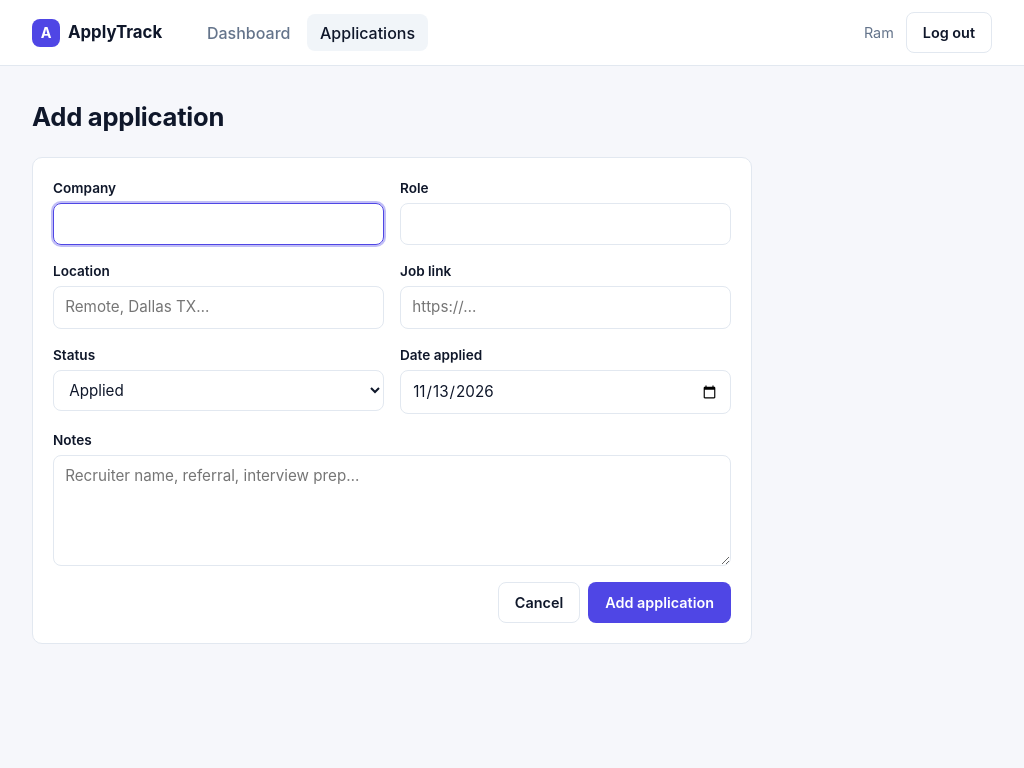
Test: application form › creates an application and returns to the list
The width and height of the screenshot is (1024, 768).
Type "Stripe" into the field labelled "Company".
click(218, 224); type("Stripe")  # box [53,203,384,245]
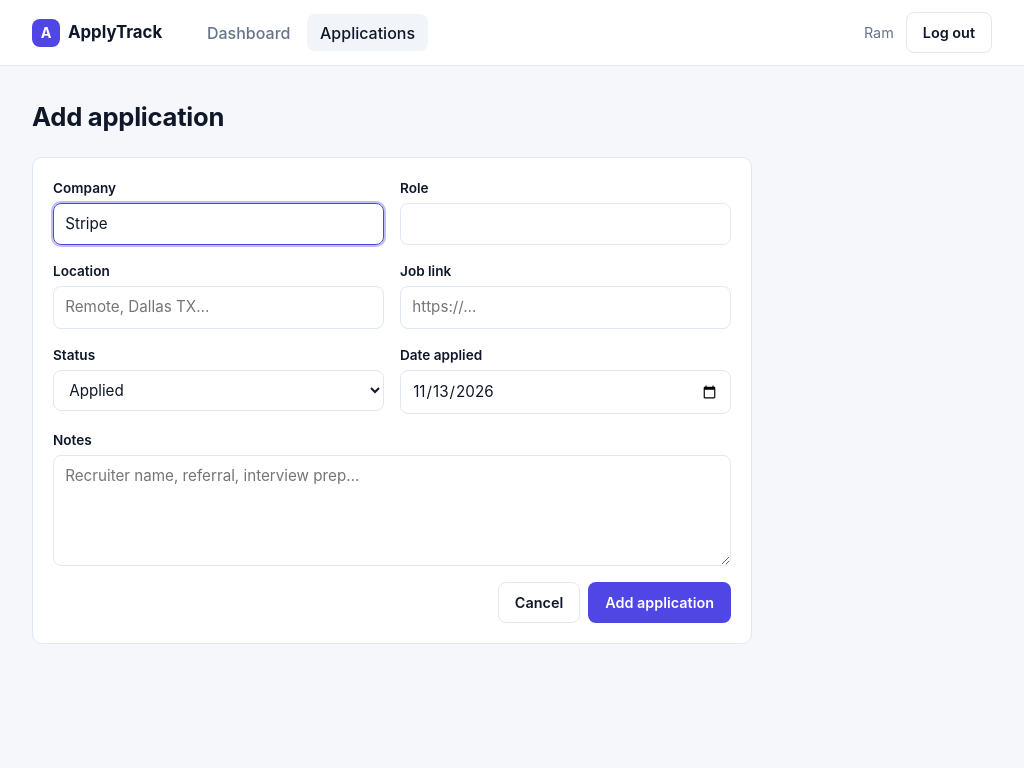
Type "Full Stack Engineer" into the field labelled "Role".
click(566, 224); type("Full Stack Engineer")  # box [400,203,731,245]
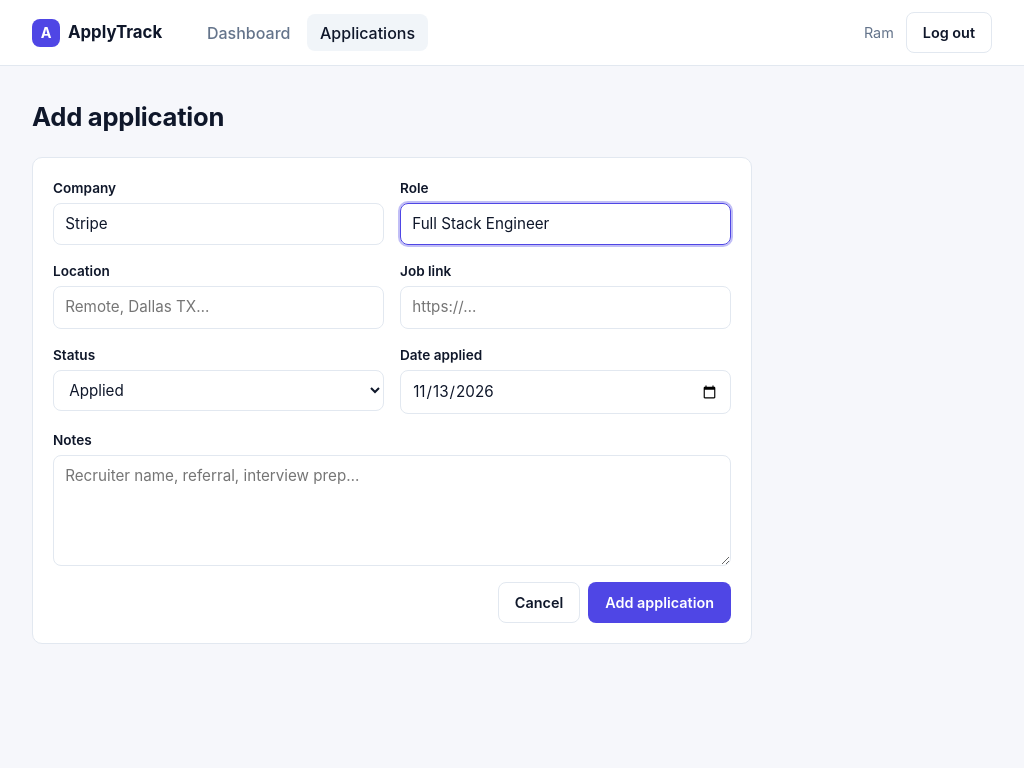
Click the button "Add application".
click(660, 603)  # box [588,582,731,623]
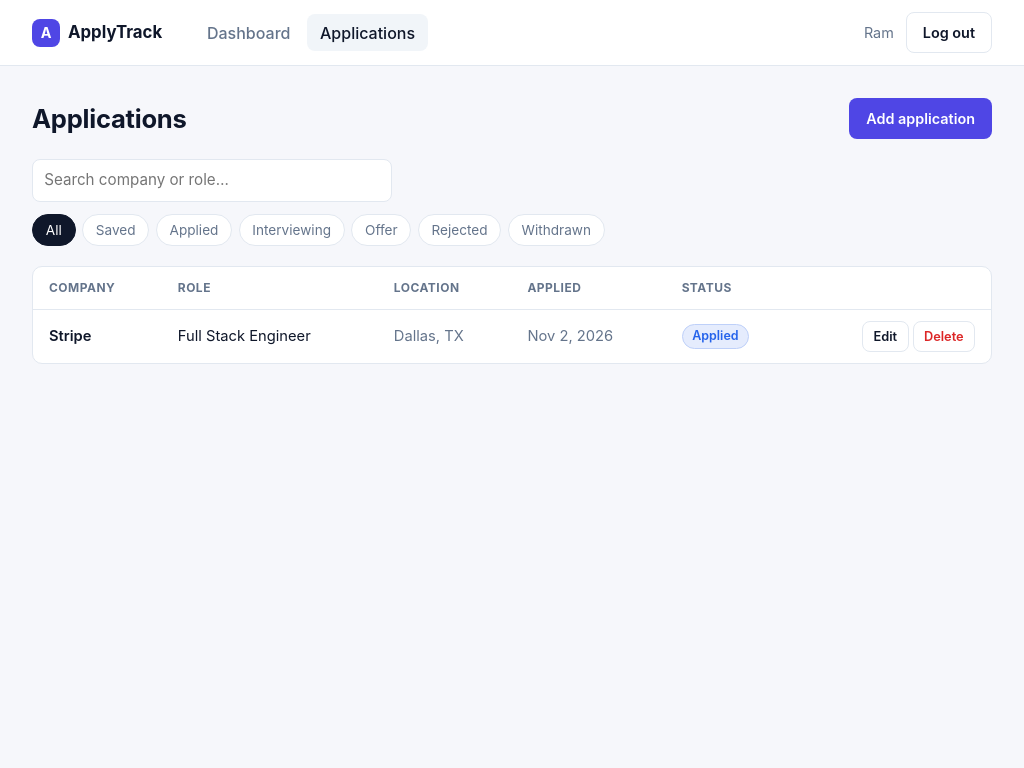
Result: the heading "Applications" is shown at [32,100,187,138]
